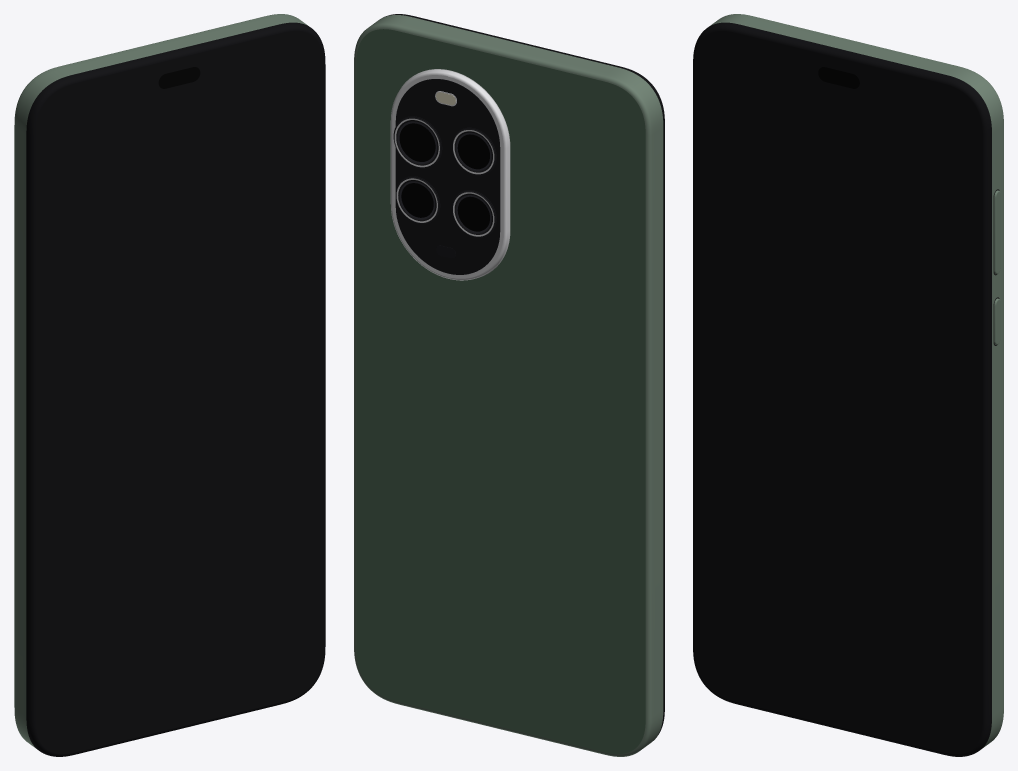
The model's file is huawei-nova-13-pro.glb.
The picture shows the model from 3 angles, left to right: view 1: azimuth 30°, elevation 25°; view 2: azimuth 150°, elevation 25°; view 3: azimuth 330°, elevation 25°; orthographic projection.
Parts seen in each view (by area): view 1: body, punch; view 2: body, camera; view 3: body, buttons, punch.
Part boxes in pixels (bbox=[...]): body: bbox=[14, 14, 325, 756]; punch: bbox=[158, 67, 200, 88]; body: bbox=[354, 14, 664, 756]; camera: bbox=[390, 69, 510, 280]; body: bbox=[693, 14, 1003, 756]; buttons: bbox=[993, 189, 1000, 345]; punch: bbox=[818, 67, 859, 88].
Size of the model in its own units: 75.33 by 163 by 9.64.
